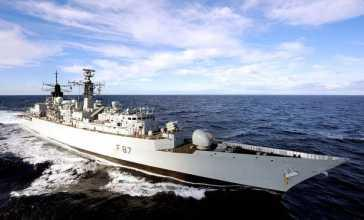warship: (21, 62, 350, 195)
